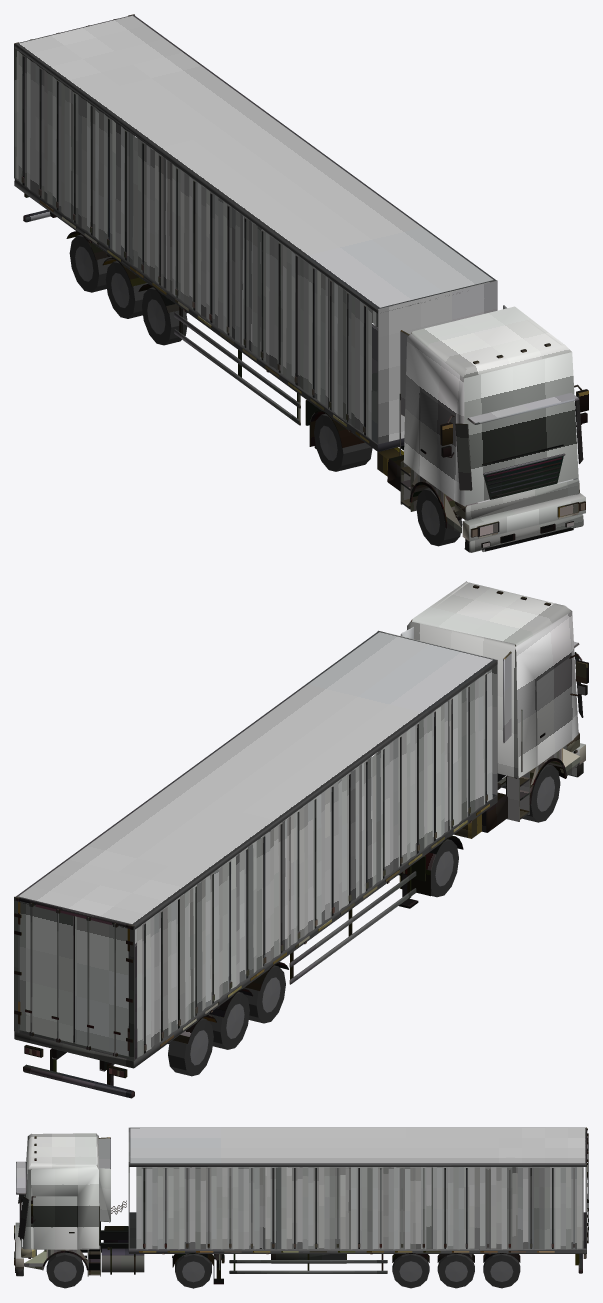
The model's file is sattel_f.glb.
The picture shows the model from 3 angles, top to bottom: view 1: azimuth 30°, elevation 25°; view 2: azimuth 150°, elevation 25°; view 3: azimuth 270°, elevation 25°; orthographic projection. The views are drawn at different scales.
Parts seen in each view (by area): view 1: koerper, rad_hl; view 2: koerper, rad_hl; view 3: koerper, rad_hl.
Part boxes in pixels (x1=…): koerper: x1=14, y1=14, x2=588, y2=552; rad_hl: x1=69, y1=234, x2=462, y2=546; koerper: x1=14, y1=581, x2=588, y2=1098; rad_hl: x1=168, y1=764, x2=560, y2=1076; koerper: x1=14, y1=1127, x2=588, y2=1284; rad_hl: x1=46, y1=1252, x2=520, y2=1288.
Size of the model in its own units: 3.08 by 3.98 by 16.58.
Materials: 2 (1 with a texture image).
